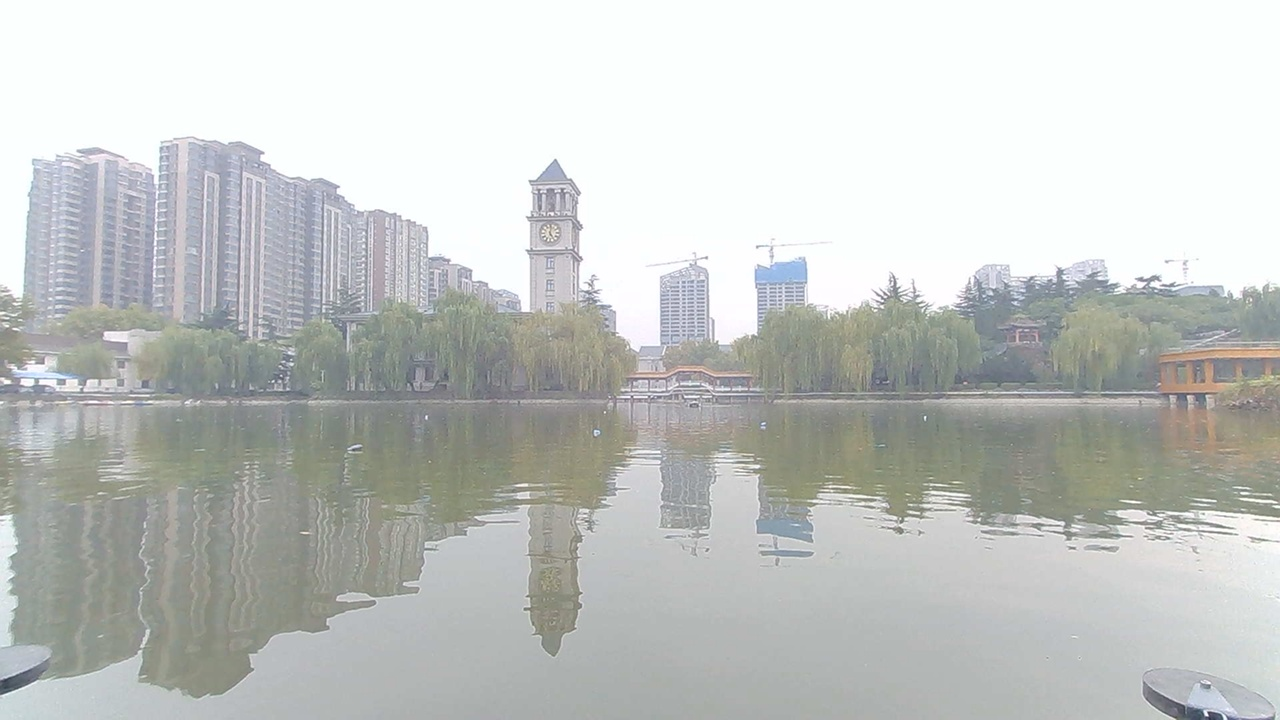bottle: (337, 434, 374, 463), (410, 403, 447, 432), (745, 412, 779, 439), (916, 404, 946, 430), (578, 426, 615, 447), (591, 400, 620, 422)
